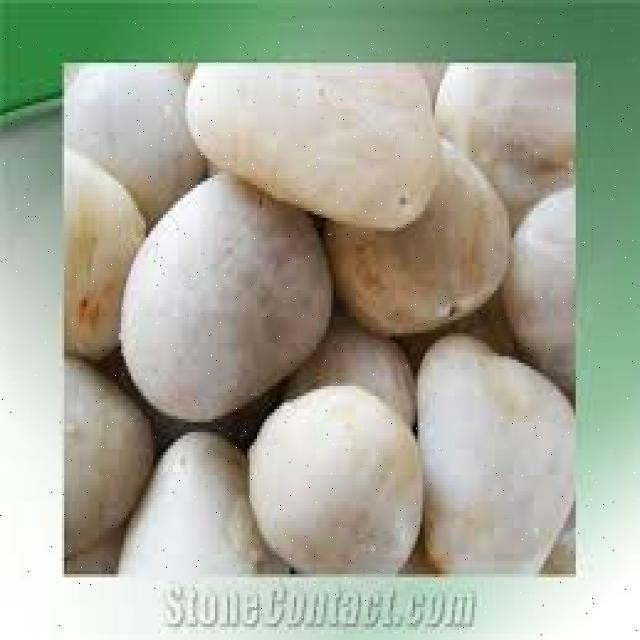Metamorphic: (69, 70, 573, 568)
